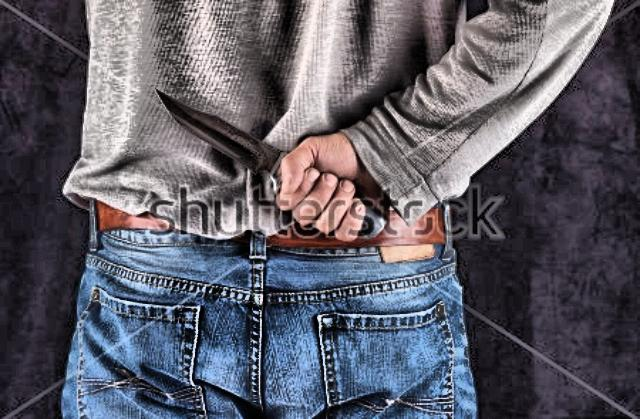knife: (146, 78, 342, 217)
